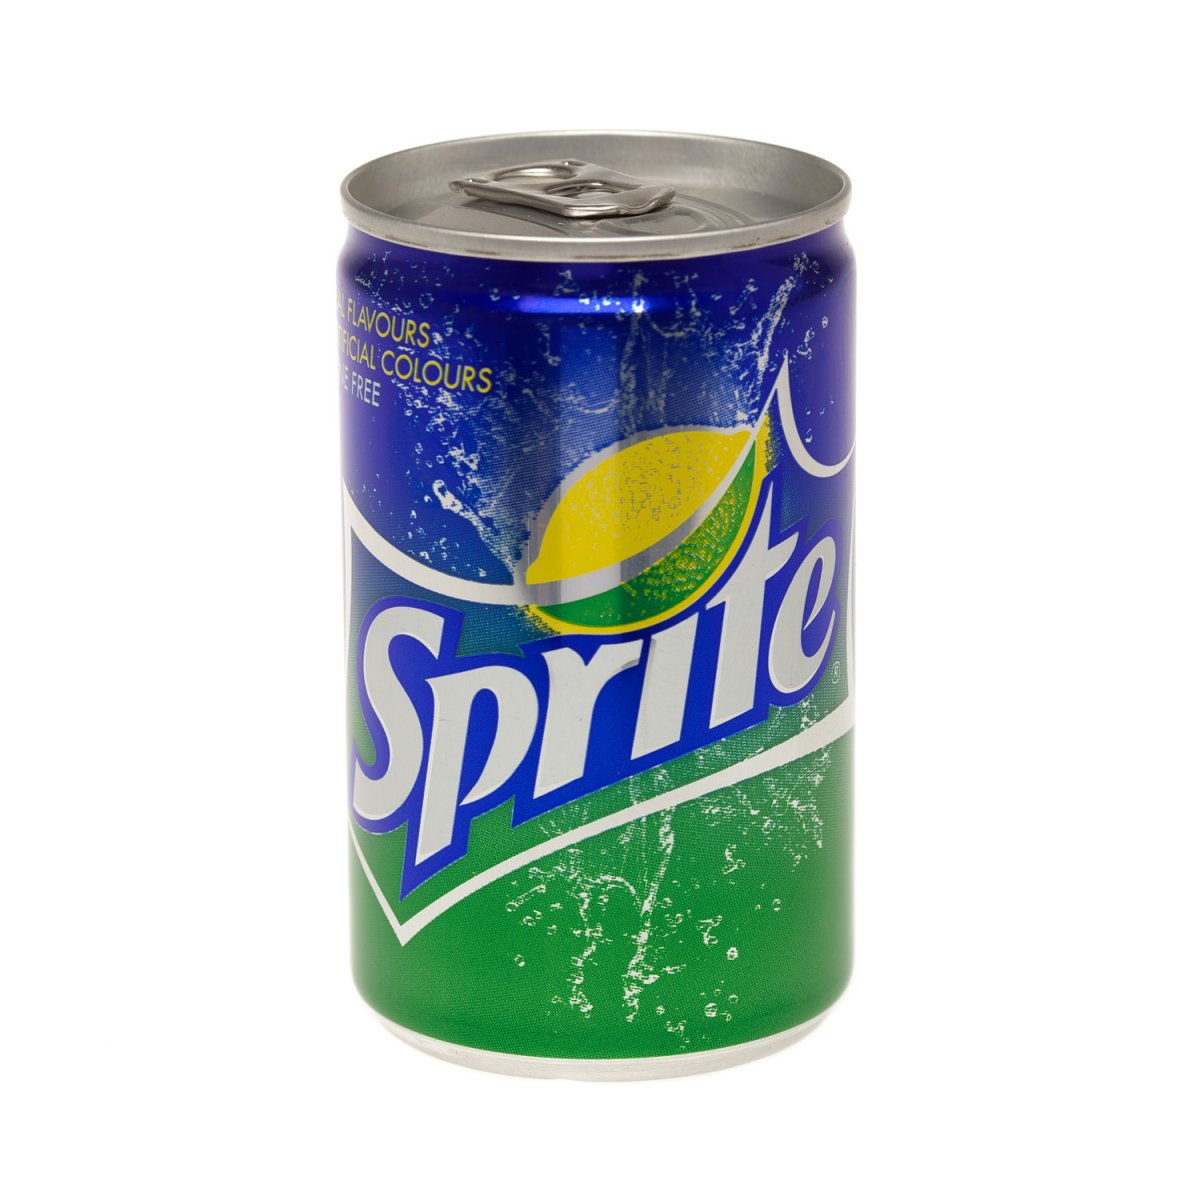can: (312, 107, 873, 1092)
